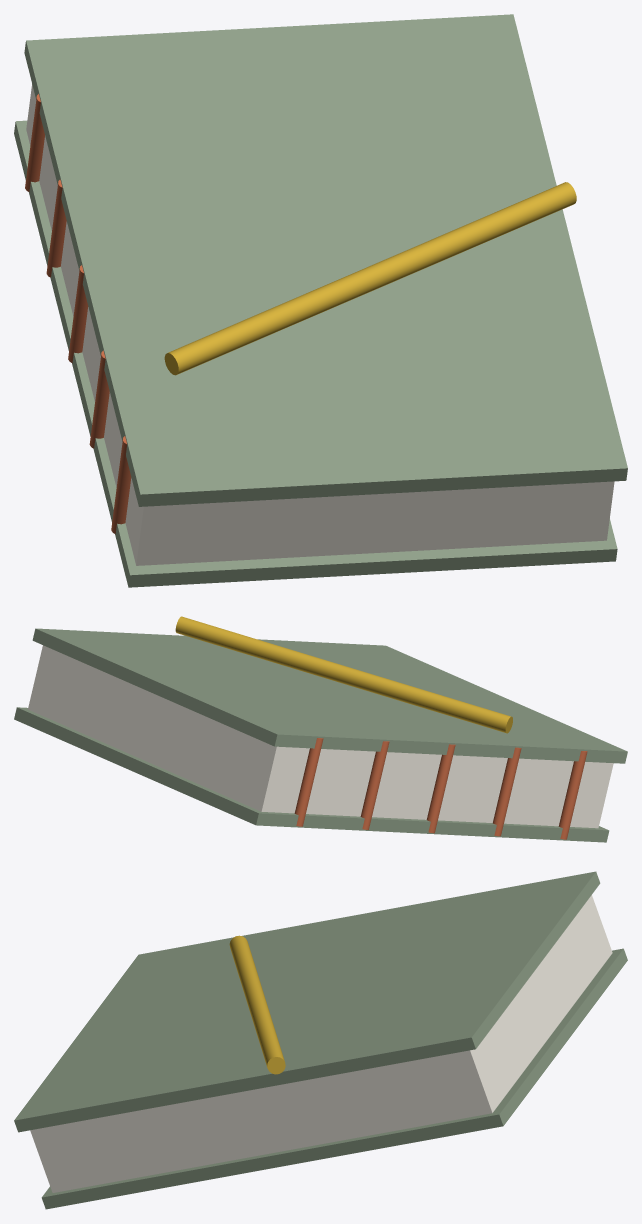
File: handmade_sketchbook.glb
The picture shows the model from 3 angles, top to bottom: view 1: azimuth 30°, elevation 25°; view 2: azimuth 150°, elevation 25°; view 3: azimuth 270°, elevation 25°; orthographic projection. The views are drawn at different scales.
Size of the model in its own units: 1.6 by 0.8224 by 1.84.
